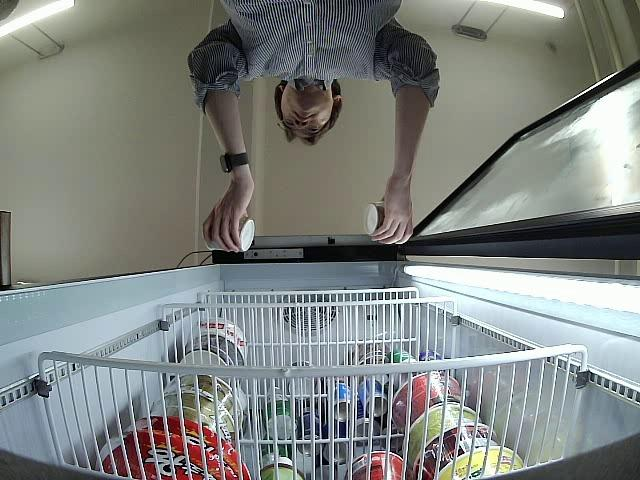00_hand: (202, 178, 253, 254), (370, 184, 414, 247)
04_chapagetti_S: (202, 212, 255, 252), (367, 199, 410, 240)
